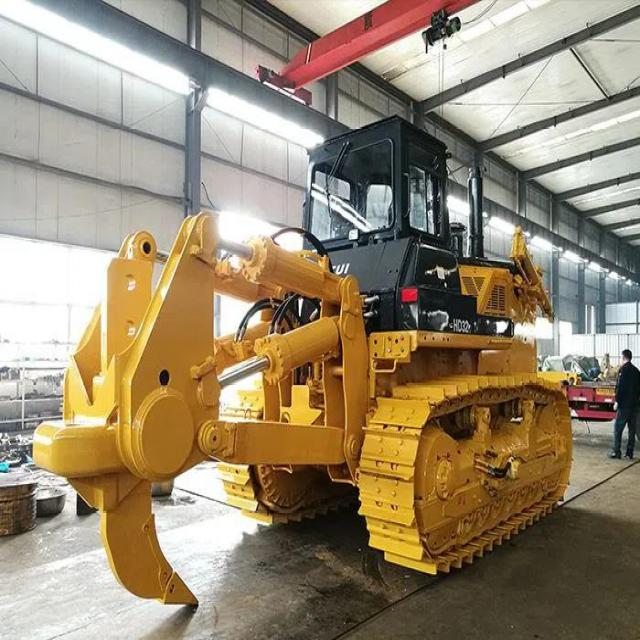Bulldozer: (58, 57, 588, 627)
